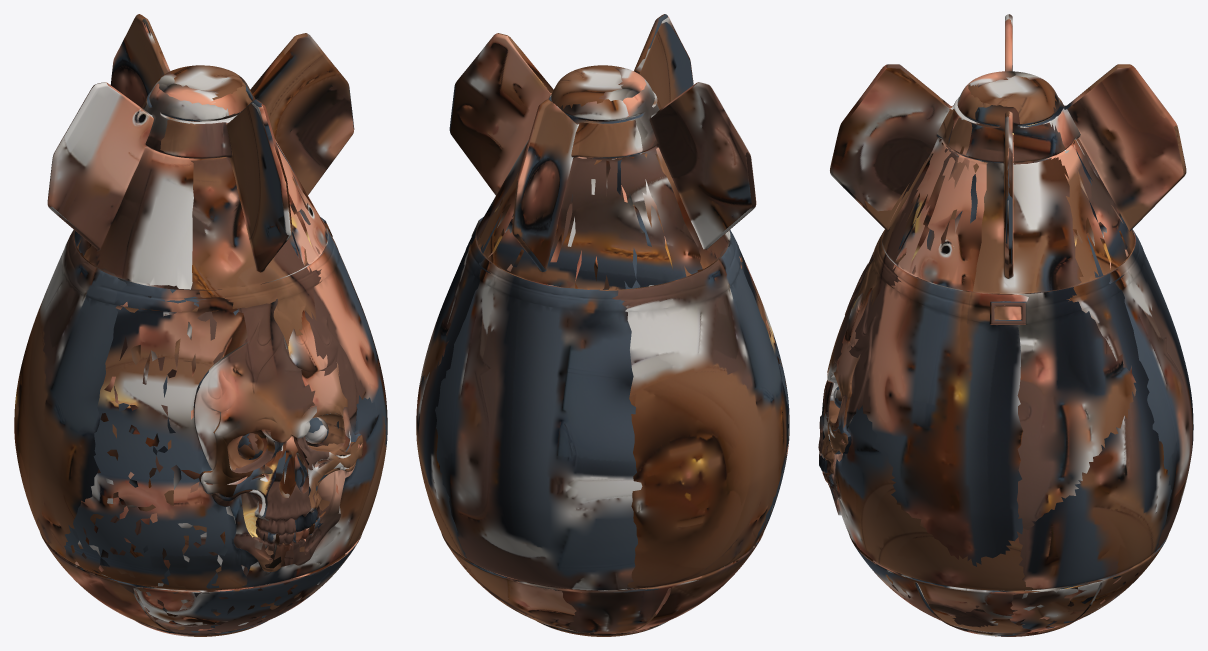
File: Nuclear.fbx
3 views of the same model, side by side, from view 1: azimuth 30°, elevation 25°; view 2: azimuth 150°, elevation 25°; view 3: azimuth 270°, elevation 25° (orthographic).
Parts seen in each view (by area): view 1: node_0; view 2: node_0; view 3: node_0.
Part boxes in pixels (x1,y1,x2,y2): node_0: (14,14,387,636); node_0: (416,14,789,636); node_0: (818,14,1193,636).
Bounding box in the file's own units: 67.93 × 111 × 69.18.
